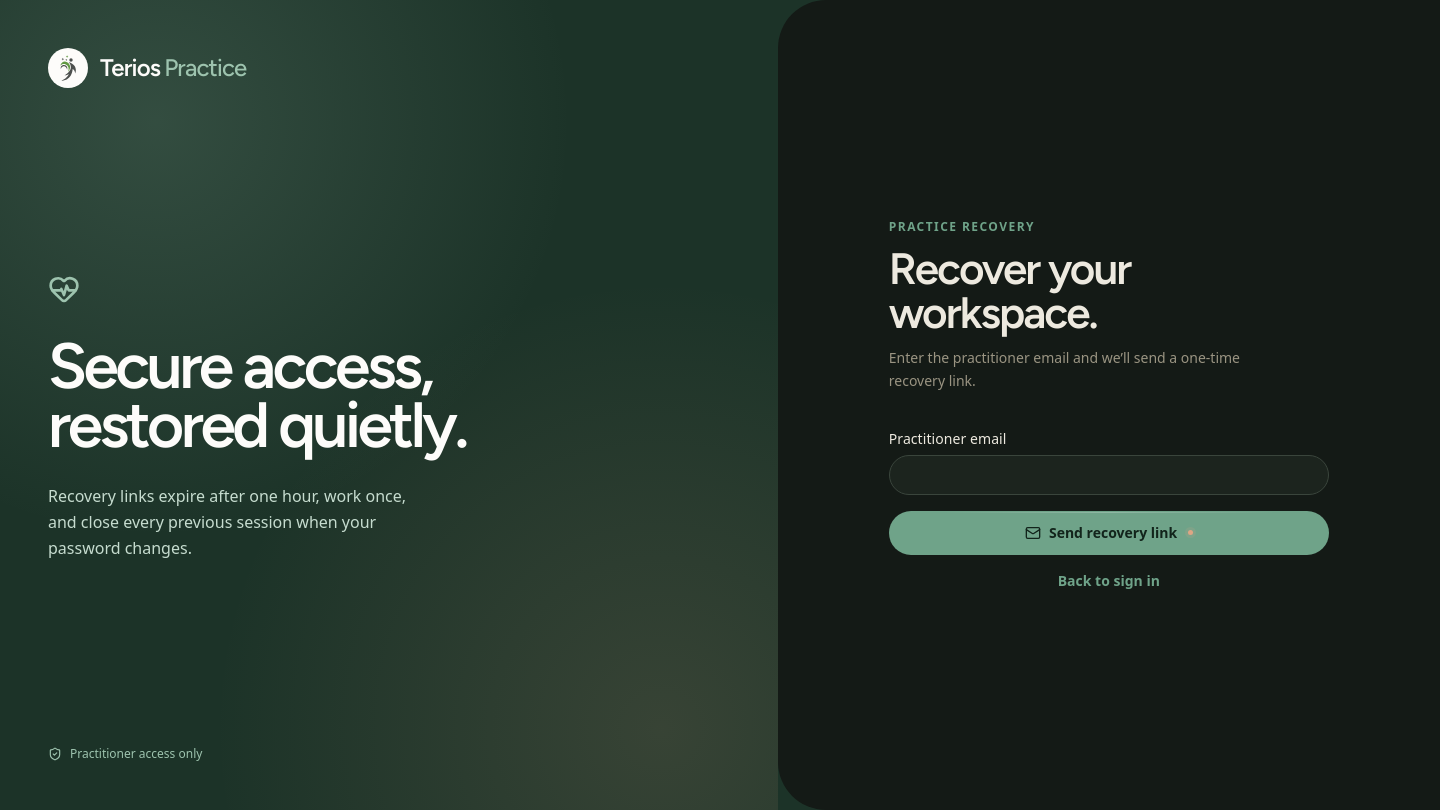
Test: practitioner password recovery request › catches a malformed address before any round trip
In the field labelled "Practitioner email": {"x": 1109, "y": 475} [889, 455, 1329, 495], type "not-an-address"
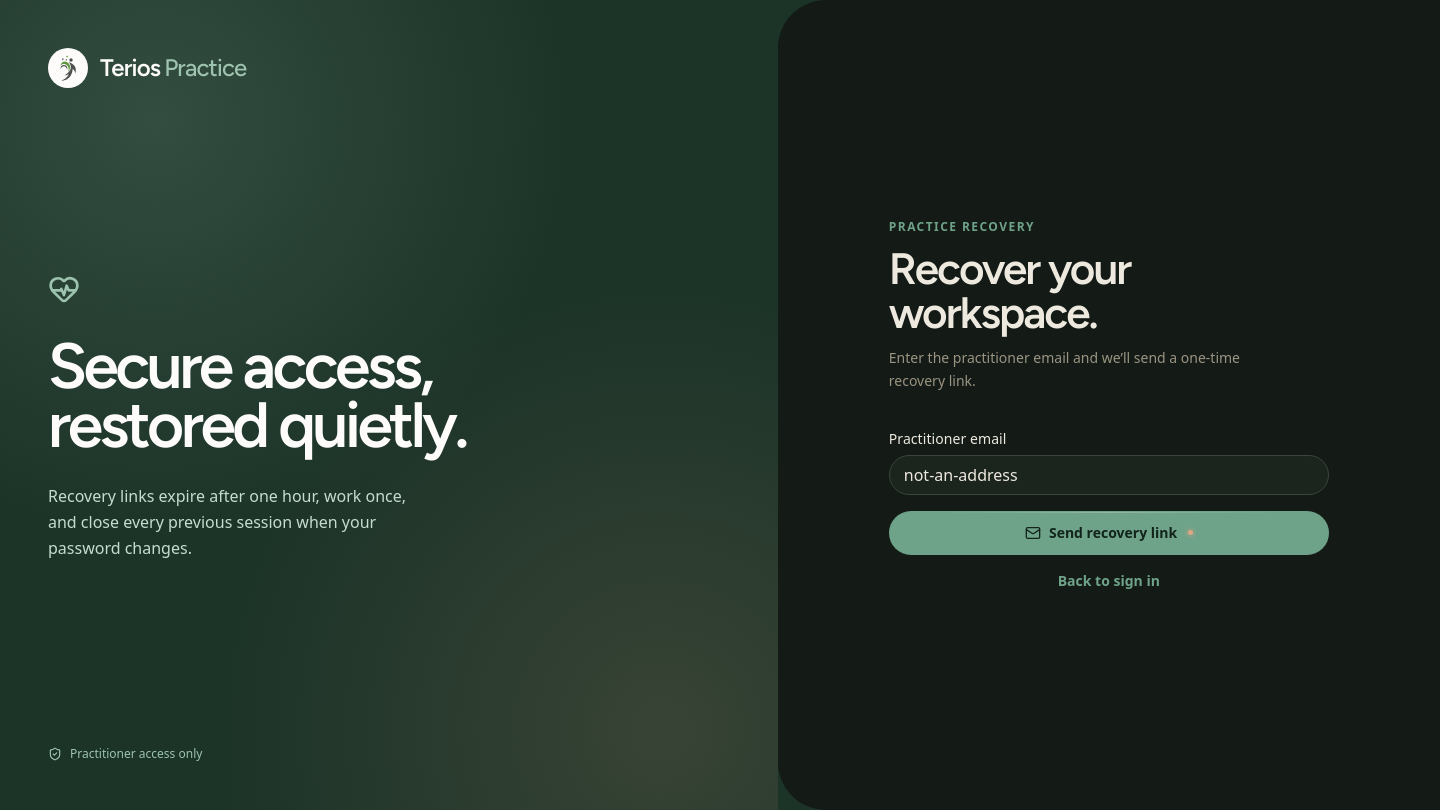
Click the button "Send recovery link": {"x": 1109, "y": 533} [889, 511, 1329, 555]
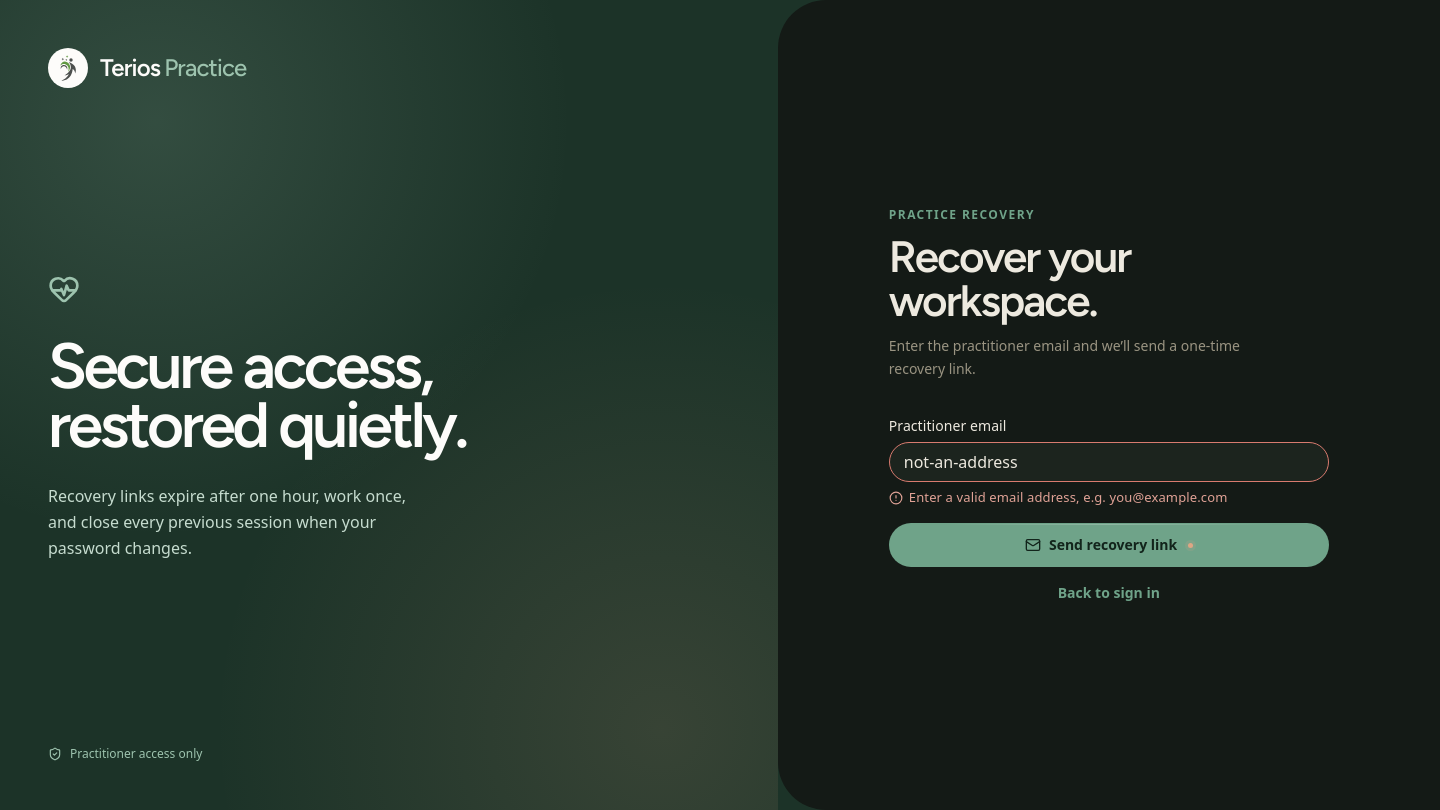
Expected: the message shows "valid email address", [909, 488, 1228, 506]
